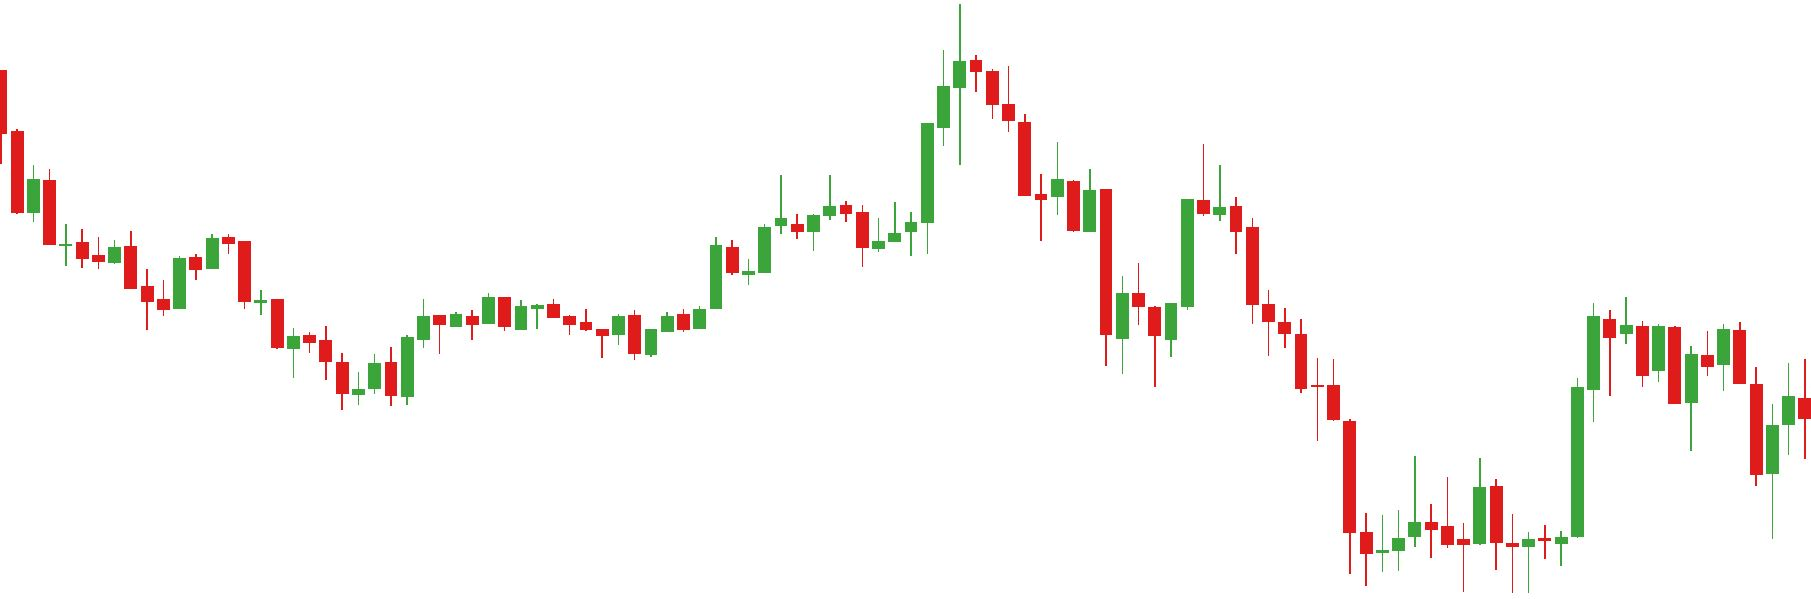sell: (1078, 136, 1215, 289)
